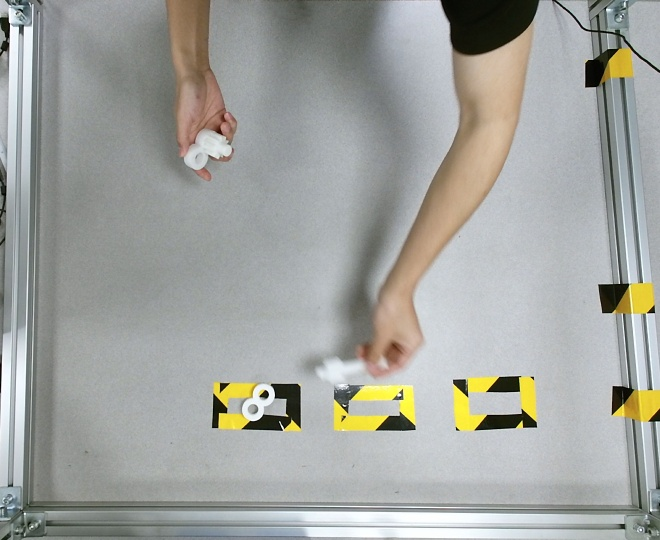stage_2: (184, 129, 232, 169)
